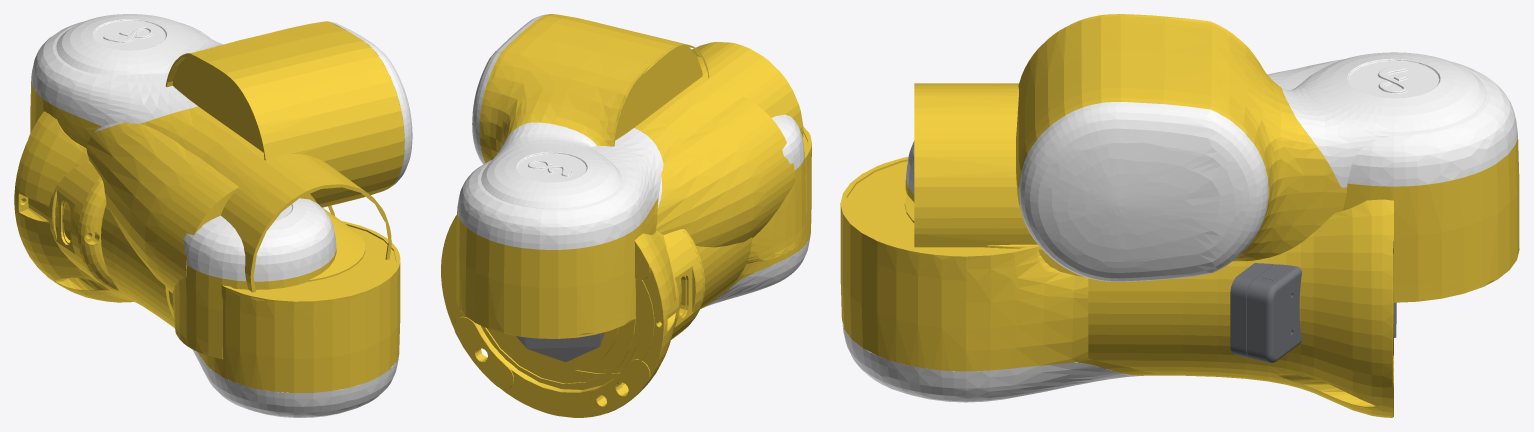
File: arm.glb
3 views of the same model, side by side, from view 1: azimuth 30°, elevation 25°; view 2: azimuth 150°, elevation 25°; view 3: azimuth 270°, elevation 25° (orthographic). The views are drawn at different scales.
Visible parts, largest first — view 1: b7, b2, b3, b5, b4, b1, b8, b6; view 2: b3, b7, b5, b1, b2, b4, b8, b10, b6; view 3: b7, b3, b2, b1, b10, b6.
Part boxes in pixels (x1,y1,x2,y2): b7: (56,14,412,207); b2: (168,221,400,417); b3: (30,22,391,292); b5: (85,122,316,292); b4: (172,198,336,359); b1: (14,111,335,327); b8: (28,161,119,291); b6: (308,207,365,281); b3: (456,42,803,338); b7: (472,14,709,208); b5: (656,96,794,247); b1: (441,215,752,417); b2: (480,127,811,387); b4: (510,114,805,370); b8: (503,229,705,377); b10: (516,332,604,362); b6: (501,327,618,368); b7: (1016,14,1486,282); b3: (914,59,1519,302); b2: (840,156,1393,402); b1: (1088,199,1393,417); b10: (1230,263,1396,362); b6: (904,194,1082,276).
Bounding box in the file's own units: 0.188 × 0.2054 × 0.333.
